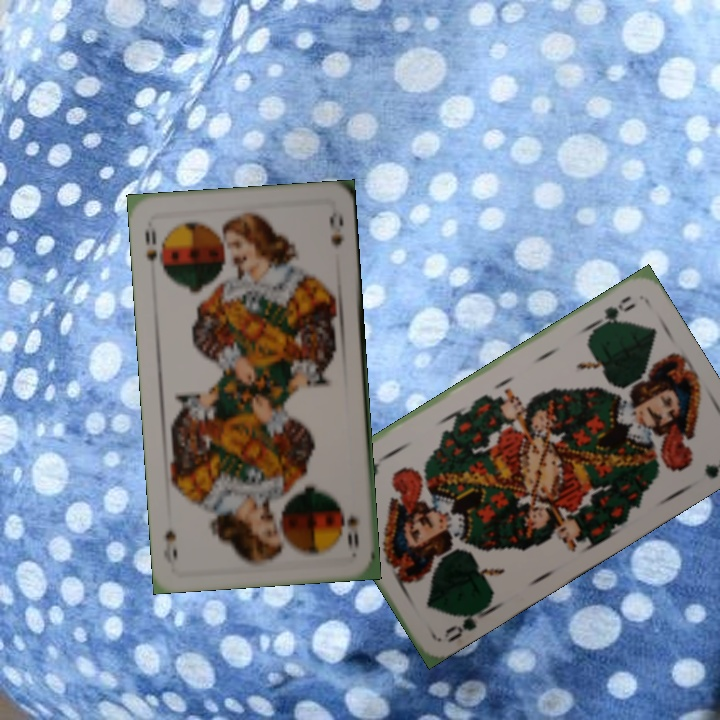GO: (440, 603, 492, 645), (586, 291, 638, 333)
SO: (141, 226, 166, 276), (343, 511, 361, 552)
